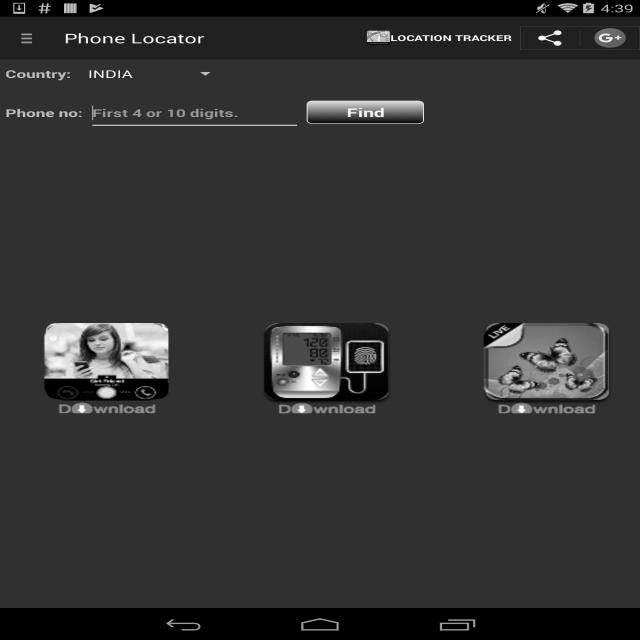Button: (299, 94, 441, 128)
EditText: (84, 104, 293, 131)
ImageButton: (527, 25, 567, 50), (12, 30, 39, 51)
ImageView: (34, 320, 170, 400), (476, 321, 607, 403), (269, 325, 386, 399), (589, 28, 630, 54)
TextView: (64, 28, 212, 52), (2, 67, 135, 84), (4, 103, 75, 119), (314, 402, 382, 418)
